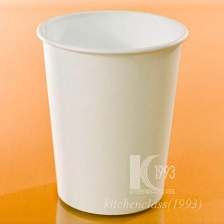paper_cup: (31, 5, 192, 221)
